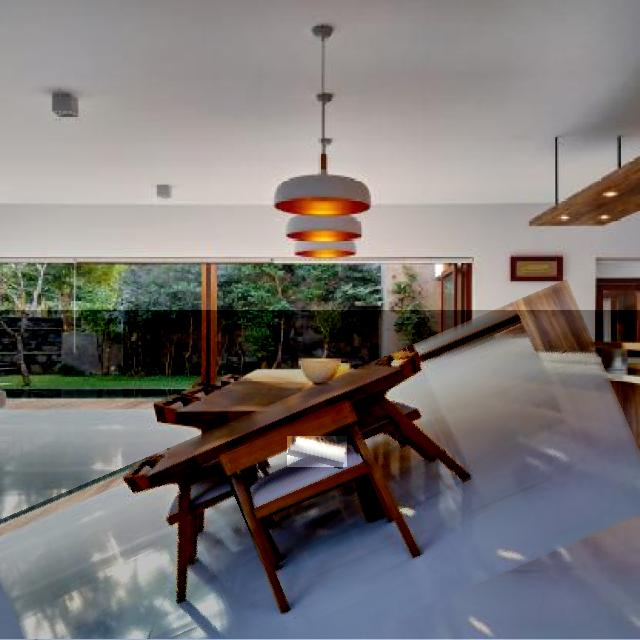floor: (0, 311, 640, 640), (287, 437, 347, 467)
